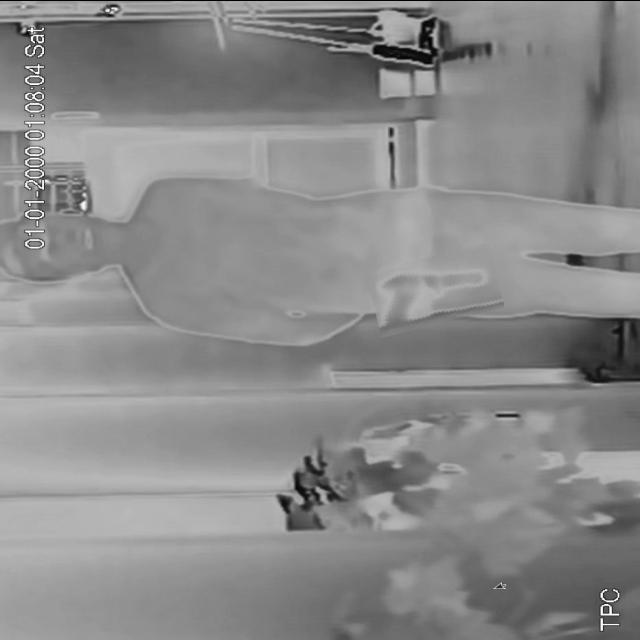Weapon: (368, 249, 501, 330)
